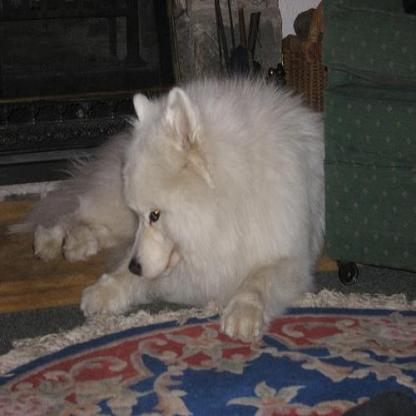Samoyed: (5, 74, 323, 344)
